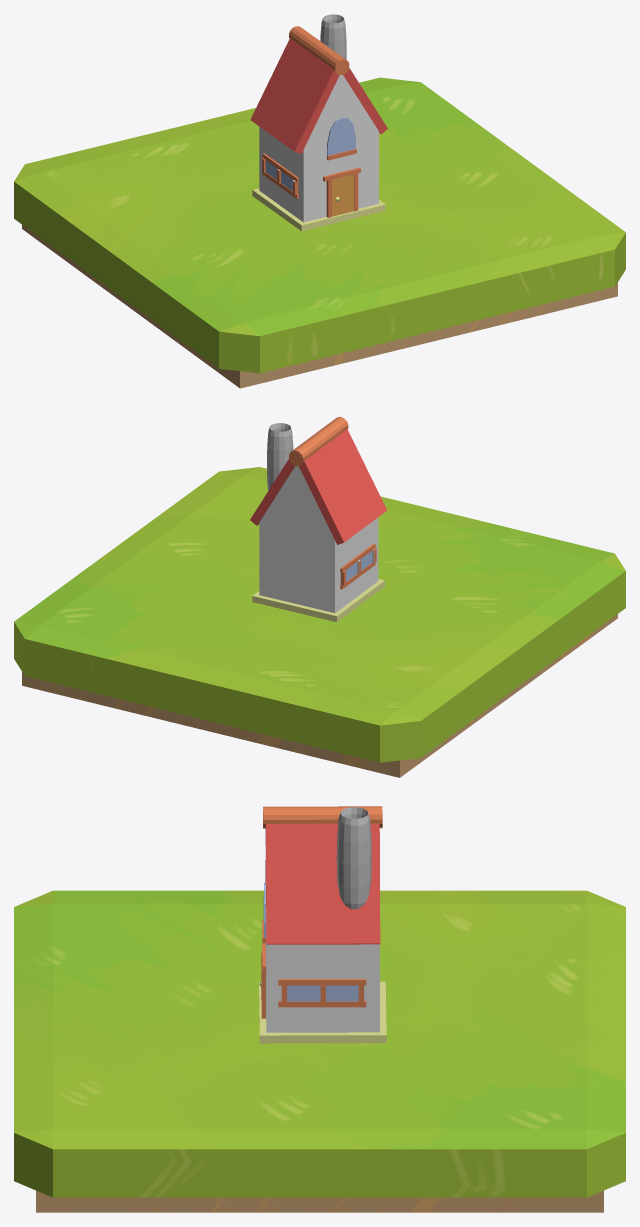
File: haus_mit_boden.fbx
3 views of the same model, one above another, from view 1: azimuth 30°, elevation 25°; view 2: azimuth 150°, elevation 25°; view 3: azimuth 270°, elevation 25° (orthographic). The views are drawn at different scales.
Visible parts, largest first — view 1: Cube.022, Cylinder, Cube.001, Cube.021, Cube.003, Cylinder.001, Torus, Cylinder.002, Cube.006, Cube.002; view 2: Cube.022, Cylinder, Cube.001, Cube.021, Cube.003, Torus, Cylinder.001, Cube.002; view 3: Cube.022, Cube.002, Cube.021, Cylinder, Torus, Cube.003, Cylinder.001, Cube.007, Cube.011, Cube.010.
Part boxes in pixels (x1=…): Cube.022: x1=14, y1=77, x2=625, y2=373; Cylinder: x1=259, y1=74, x2=378, y2=222; Cube.001: x1=250, y1=38, x2=339, y2=153; Cube.021: x1=22, y1=225, x2=617, y2=388; Cube.003: x1=252, y1=188, x2=385, y2=231; Cylinder.001: x1=289, y1=26, x2=349, y2=74; Torus: x1=320, y1=14, x2=346, y2=59; Cylinder.002: x1=327, y1=117, x2=355, y2=155; Cube.006: x1=332, y1=174, x2=354, y2=216; Cube.002: x1=343, y1=68, x2=387, y2=134; Cube.022: x1=14, y1=467, x2=625, y2=762; Cylinder: x1=259, y1=465, x2=378, y2=613; Cube.001: x1=298, y1=429, x2=387, y2=544; Cube.021: x1=22, y1=614, x2=617, y2=777; Cube.003: x1=252, y1=579, x2=384, y2=622; Torus: x1=267, y1=423, x2=293, y2=490; Cylinder.001: x1=289, y1=417, x2=348, y2=465; Cube.002: x1=250, y1=459, x2=294, y2=525; Cube.022: x1=14, y1=890, x2=625, y2=1197; Cube.002: x1=266, y1=823, x2=380, y2=944; Cube.021: x1=36, y1=1190, x2=603, y2=1212; Cylinder: x1=265, y1=846, x2=379, y2=1032; Torus: x1=336, y1=807, x2=371, y2=909; Cube.003: x1=259, y1=981, x2=386, y2=1043; Cylinder.001: x1=263, y1=806, x2=382, y2=828; Cube.007: x1=287, y1=985, x2=364, y2=1001; Cube.011: x1=278, y1=979, x2=366, y2=985; Cube.010: x1=278, y1=1000, x2=366, y2=1007.
Size of the model in its own units: 108 by 57.56 by 108.
Materials: 9 (2 with a texture image).
